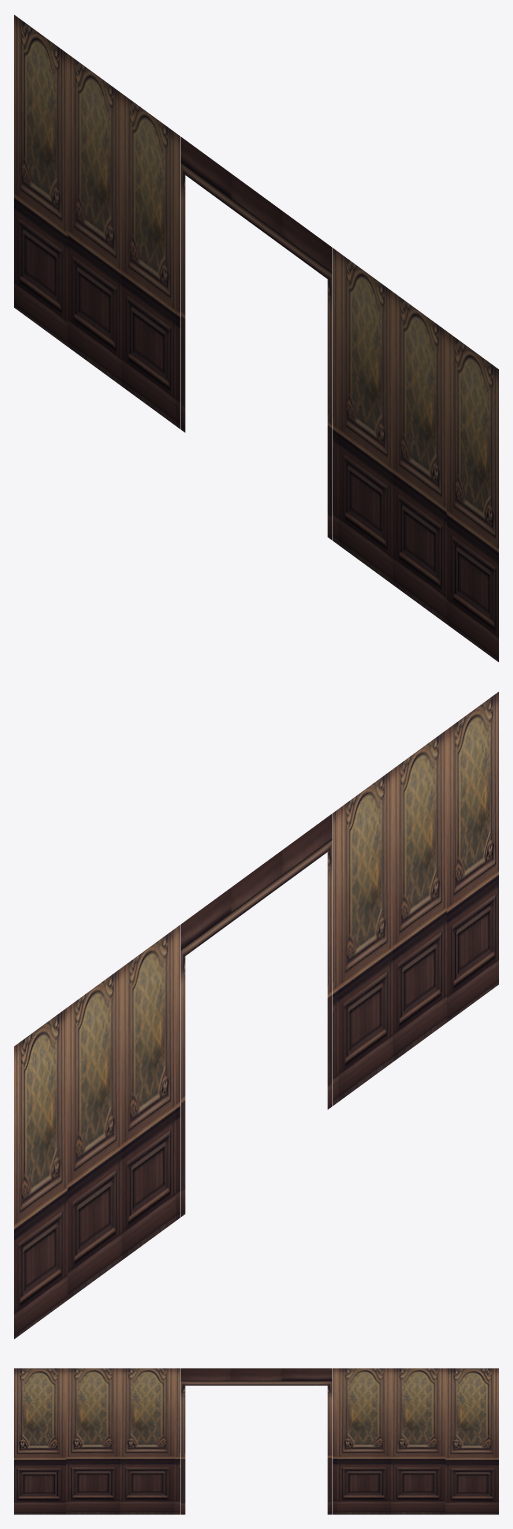
File: wall_hall_big.glb
3 renders of one model, top to bottom at view 1: azimuth 30°, elevation 25°; view 2: azimuth 150°, elevation 25°; view 3: azimuth 270°, elevation 25°, orthographic. The views are drawn at different scales.
Visible parts, largest first — view 1: Piano, Piano.001; view 2: Piano, Piano.001; view 3: Piano, Piano.001.
Part boxes in pixels (box(x1,y1,x2,y2)): Piano: box(14, 15, 498, 661); Piano.001: box(180, 137, 332, 539); Piano: box(14, 692, 498, 1338); Piano.001: box(180, 814, 332, 1216); Piano: box(14, 1368, 498, 1514); Piano.001: box(180, 1368, 332, 1514).
Bounding box in the file's own units: 1.11e-15 × 5 × 15.
2 materials, 2 textured.
